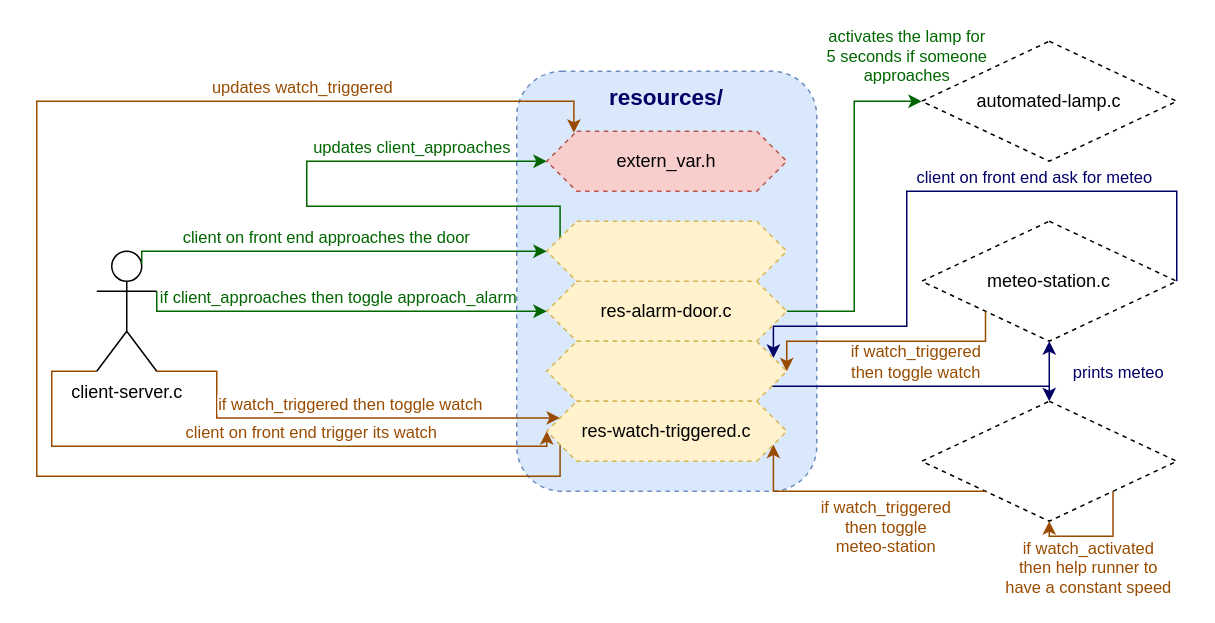
The diagram is 1215 pixels wide and 623 high, and some of its shapes have lost their labels. Here are the shapes that lost their labels. From the top down, the centre of each, then its label:
[666,250]: res-client-approaches.c
[666,370]: res-meteo.c
[1048,460]: watch.c
